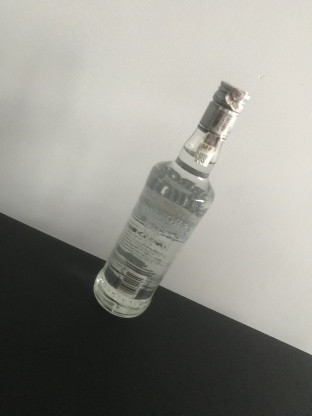nakretka: (195, 78, 251, 143)
